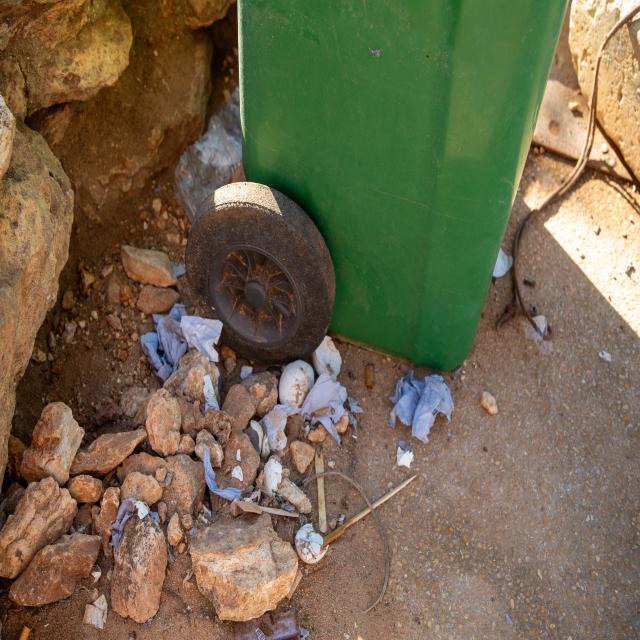Bottle: (171, 84, 242, 219)
Cigarette: (202, 445, 244, 501), (365, 362, 374, 392), (16, 626, 30, 640)
Other litter: (321, 473, 418, 546), (247, 398, 298, 492), (301, 374, 365, 446), (279, 361, 315, 406), (295, 523, 330, 565), (314, 334, 341, 382), (314, 449, 327, 534), (85, 592, 109, 631), (231, 447, 244, 480), (244, 485, 261, 505), (241, 366, 253, 380)
Other plastic: (113, 504, 160, 549), (520, 314, 554, 353), (493, 246, 512, 282), (169, 258, 185, 275), (601, 348, 612, 365)
Paper: (136, 301, 224, 377), (390, 364, 455, 446), (233, 598, 310, 640), (200, 374, 222, 414), (395, 440, 418, 474)
